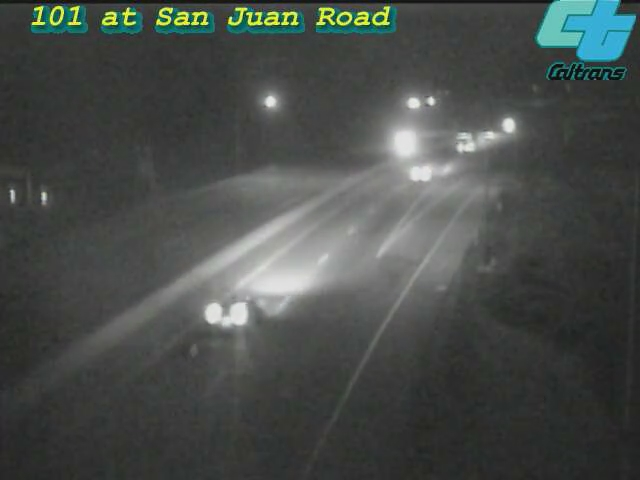vehicle: (381, 131, 461, 211), (193, 273, 273, 353), (379, 118, 429, 168), (485, 100, 535, 150), (465, 110, 515, 160), (449, 116, 499, 166)
